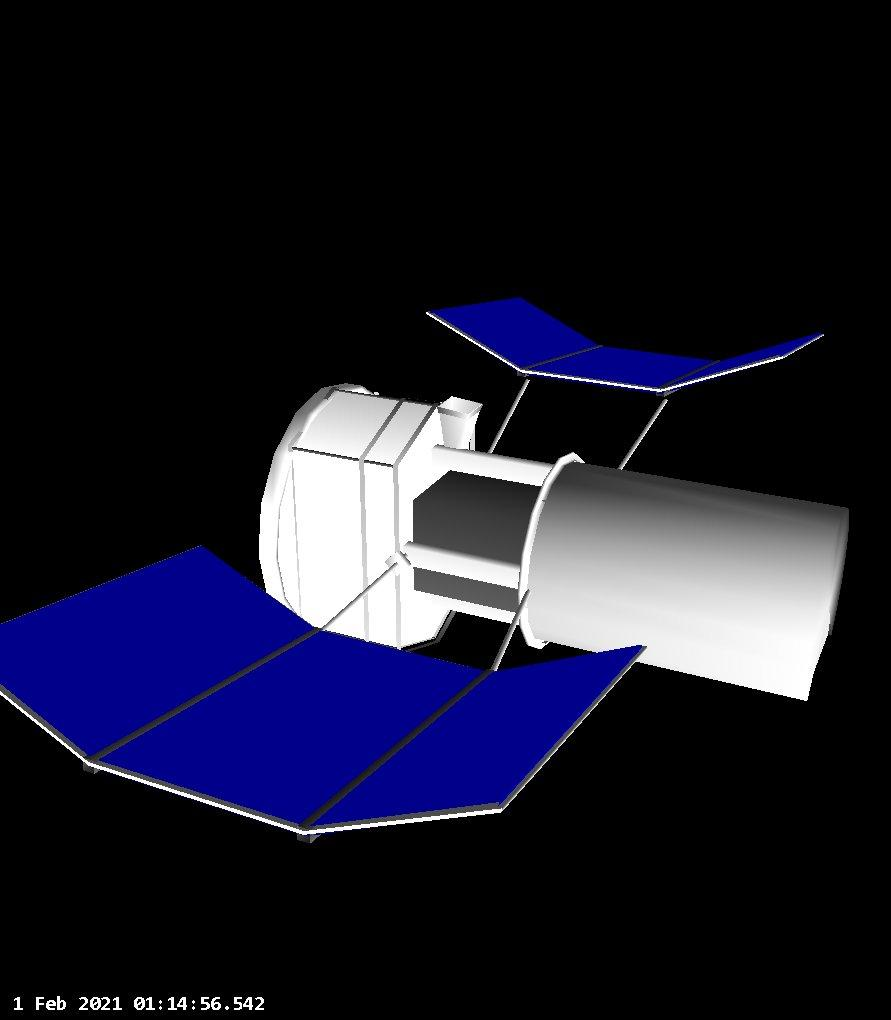body: (257, 378, 853, 705)
solar: (0, 538, 651, 847), (424, 294, 828, 393)
thruster: (436, 394, 484, 452)
